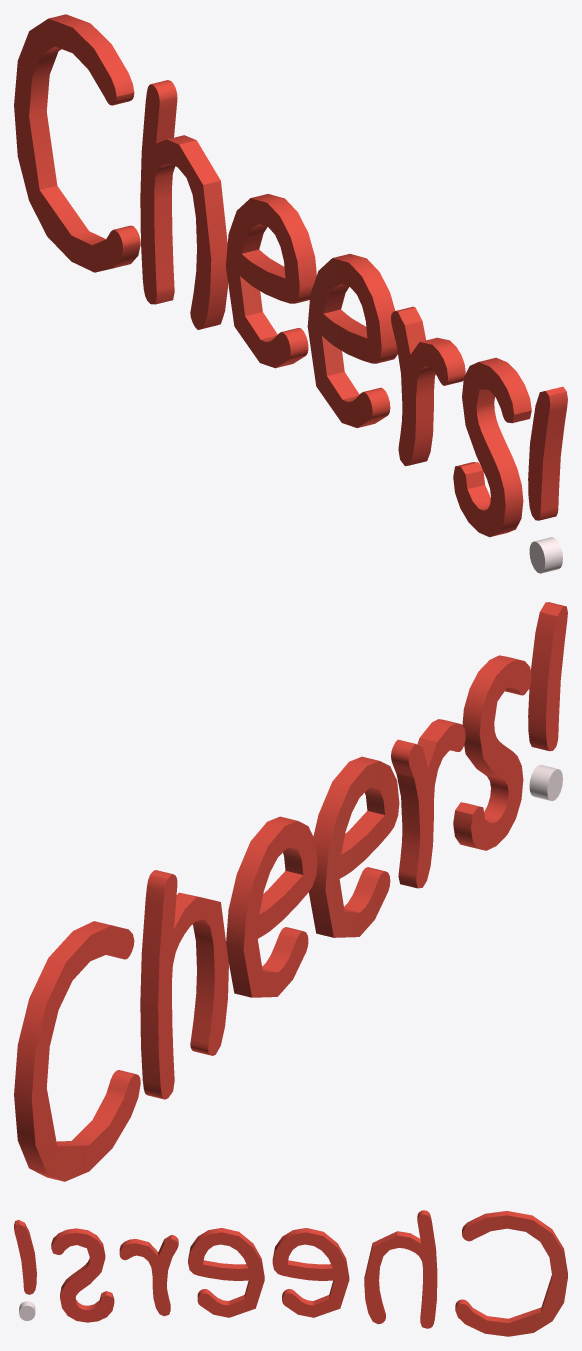
File: neonsgin1.fbx
3 renders of one model, top to bottom at view 1: azimuth 30°, elevation 25°; view 2: azimuth 150°, elevation 25°; view 3: azimuth 270°, elevation 25°, orthographic. The views are drawn at different scales.
Parts seen in each view (by area): view 1: typeMesh1; view 2: typeMesh1; view 3: typeMesh1.
Boxes of the visible parts, x1,y1,x2,y2 form: typeMesh1: (14, 14, 567, 573); typeMesh1: (14, 602, 567, 1181); typeMesh1: (14, 1210, 567, 1336).
Size of the model in its own units: 3.07 by 39.12 by 161.
